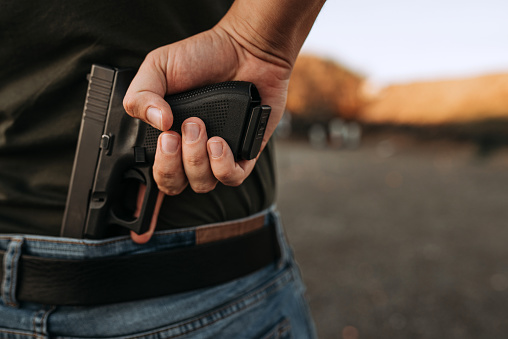gun: (56, 59, 274, 243)
